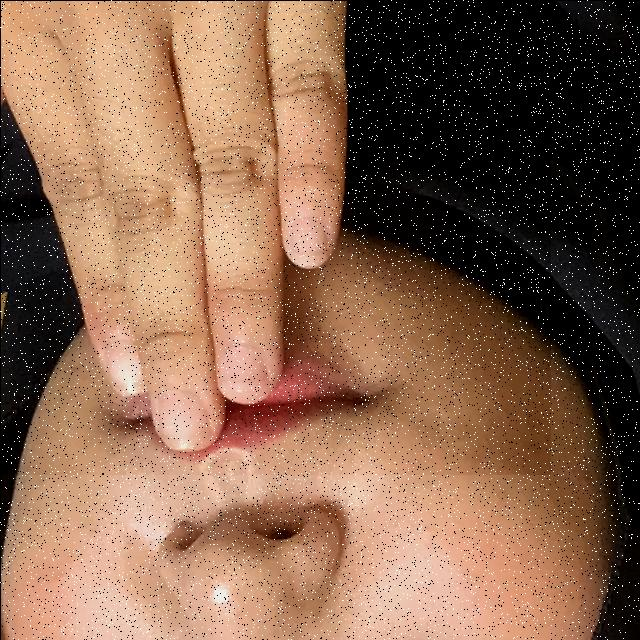ganteng: (0, 0, 550, 474)
